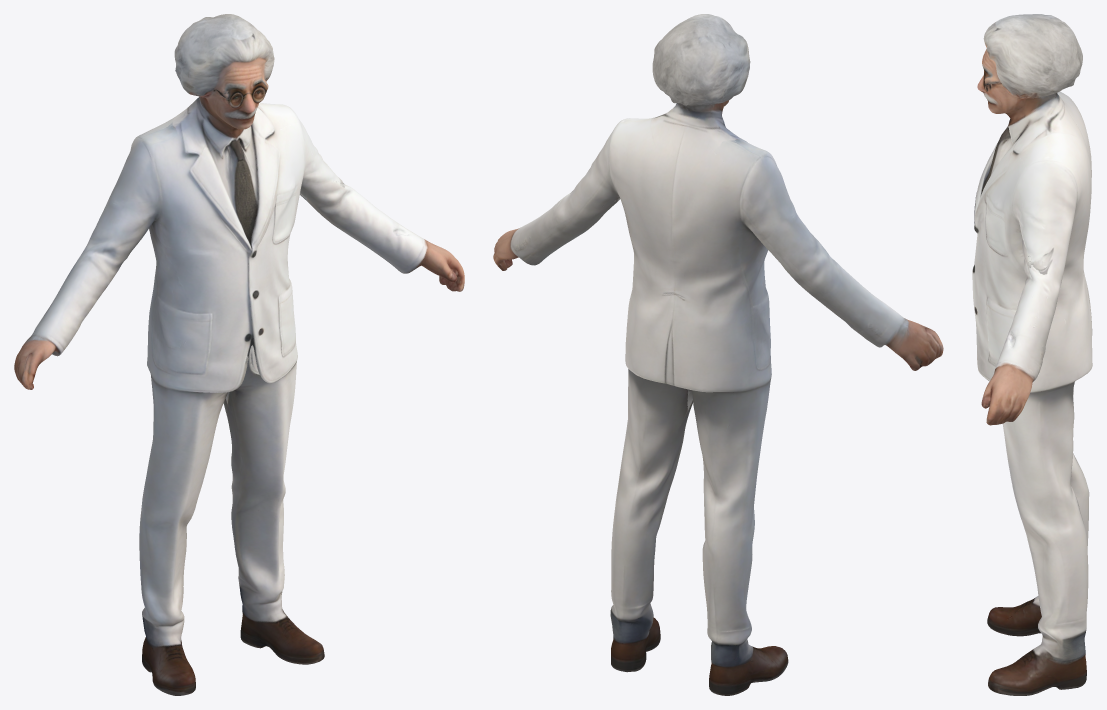
Rendered from professor1.glb.
The picture shows the model from 3 angles, left to right: view 1: azimuth 30°, elevation 25°; view 2: azimuth 150°, elevation 25°; view 3: azimuth 270°, elevation 25°; orthographic projection.
Parts seen in each view (by area): view 1: tmpm_soh6x8.ply_Material.001_0; view 2: tmpm_soh6x8.ply_Material.001_0; view 3: tmpm_soh6x8.ply_Material.001_0.
Part boxes in pixels (x1,y1,x2,y2): tmpm_soh6x8.ply_Material.001_0: (14, 14, 464, 695); tmpm_soh6x8.ply_Material.001_0: (493, 14, 943, 695); tmpm_soh6x8.ply_Material.001_0: (972, 14, 1092, 695).
Bounding box in the file's own units: 1.43 × 2 × 0.3404.
Materials: 1 (1 with a texture image).
